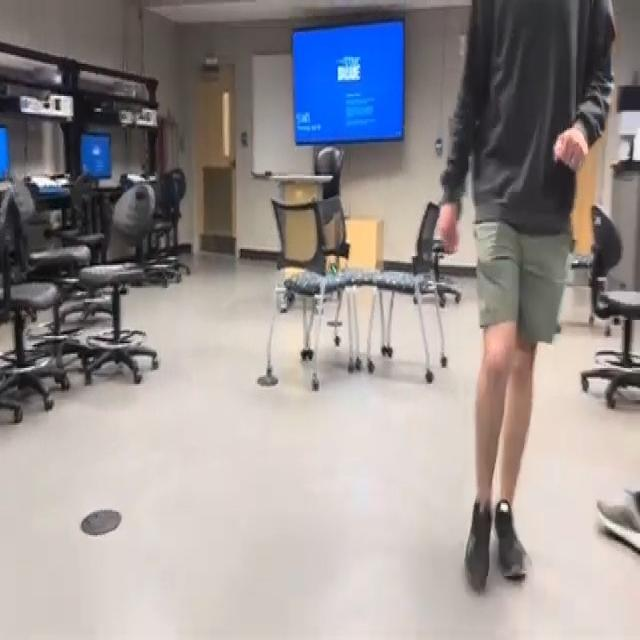drone: (318, 245, 356, 290)
